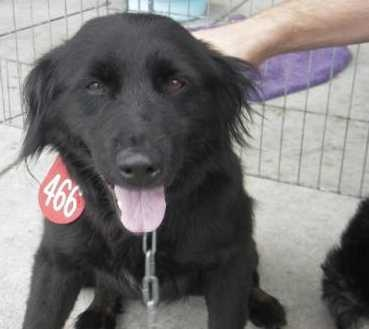Dog: (17, 13, 270, 328)
